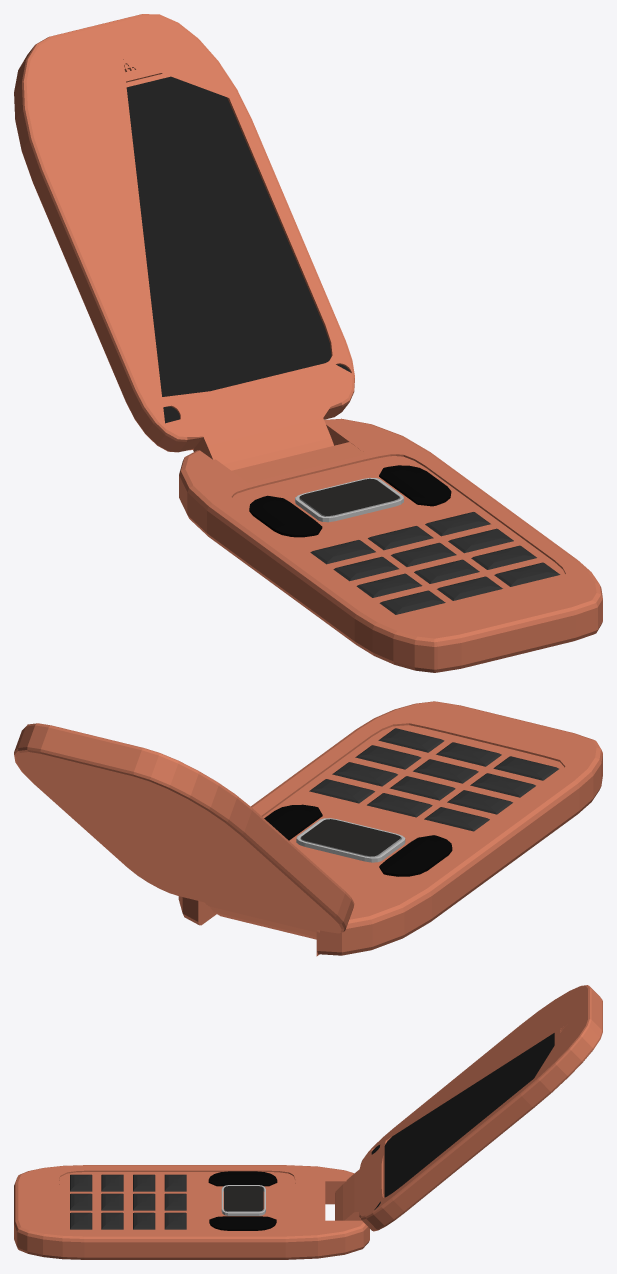
Rendered from flipphone.fbx.
3 views of the same model, one above another, from view 1: azimuth 30°, elevation 25°; view 2: azimuth 150°, elevation 25°; view 3: azimuth 270°, elevation 25° (orthographic). The views are drawn at different scales.
Visible parts, largest first — view 1: Cube.001, Cube, Cube.005, Cube.006, Cube.008, Cube.007; view 2: Cube, Cube.001, Cube.005, Cube.006, Cube.008, Cube.007; view 3: Cube, Cube.001, Cube.005, Cube.006, Cube.007, Cube.008.
Part boxes in pixels (x1,y1,x2,y2): Cube.001: (14,14,354,470); Cube: (179,418,602,672); Cube.005: (310,512,560,614); Cube.006: (295,477,403,522); Cube.008: (249,495,322,537); Cube.007: (379,465,451,506); Cube: (178,701,602,956); Cube.001: (14,723,354,939); Cube.005: (309,728,558,831); Cube.006: (296,818,405,862); Cube.008: (379,835,452,876); Cube.007: (264,804,322,840); Cube: (14,1165,369,1259); Cube.001: (335,985,602,1231); Cube.005: (70,1174,186,1229); Cube.006: (221,1185,265,1215); Cube.007: (209,1216,276,1230); Cube.008: (208,1171,277,1186).
Bounding box in the file's own units: 96.84 × 133 × 322.
